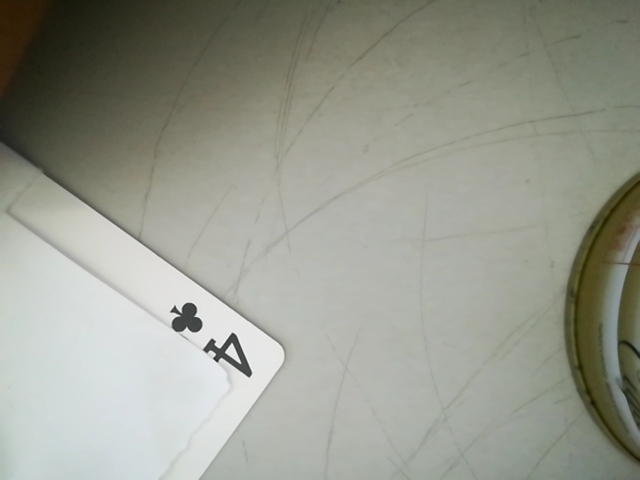mh 4: (153, 284, 261, 380)
